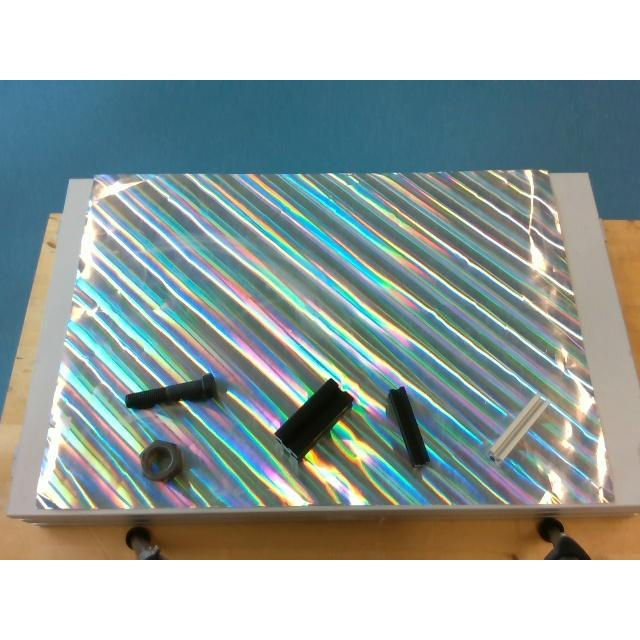F20_20_B: (388, 386, 428, 470)
F20_20_G: (489, 394, 547, 462)
M20_100: (124, 372, 216, 408)
M30: (140, 440, 182, 480)
S40_40_B: (274, 378, 354, 462)
